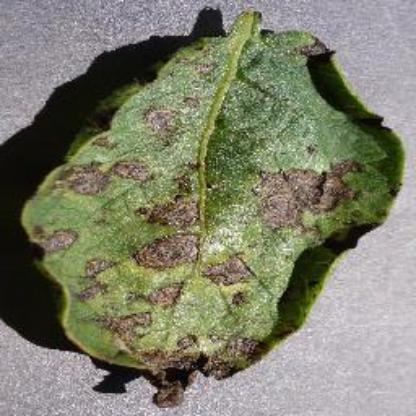Early-Blight: (15, 3, 416, 411)
